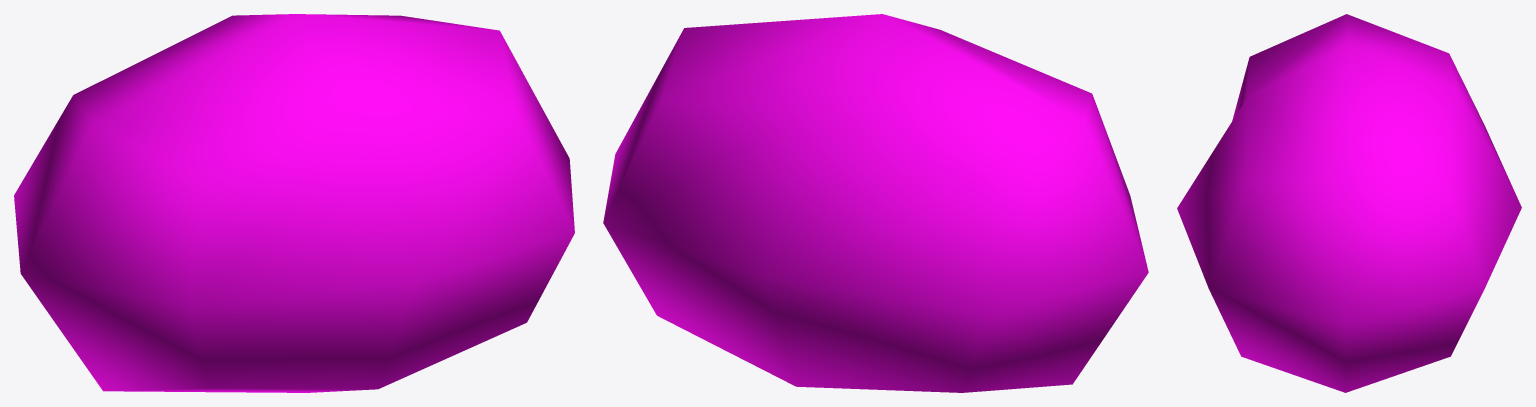
Rendered from potato_meshCollider.fbx.
3 views of the same model, side by side, from view 1: azimuth 30°, elevation 25°; view 2: azimuth 150°, elevation 25°; view 3: azimuth 270°, elevation 25° (orthographic). The views are drawn at different scales.
Visible parts, largest first — view 1: foods_potato_meshCollider; view 2: foods_potato_meshCollider; view 3: foods_potato_meshCollider.
Part boxes in pixels (x1,y1,x2,y2): foods_potato_meshCollider: [14, 14, 574, 392]; foods_potato_meshCollider: [603, 14, 1148, 392]; foods_potato_meshCollider: [1177, 14, 1521, 392].
Size of the model in its own units: 12.43 by 8.3 by 8.36.
